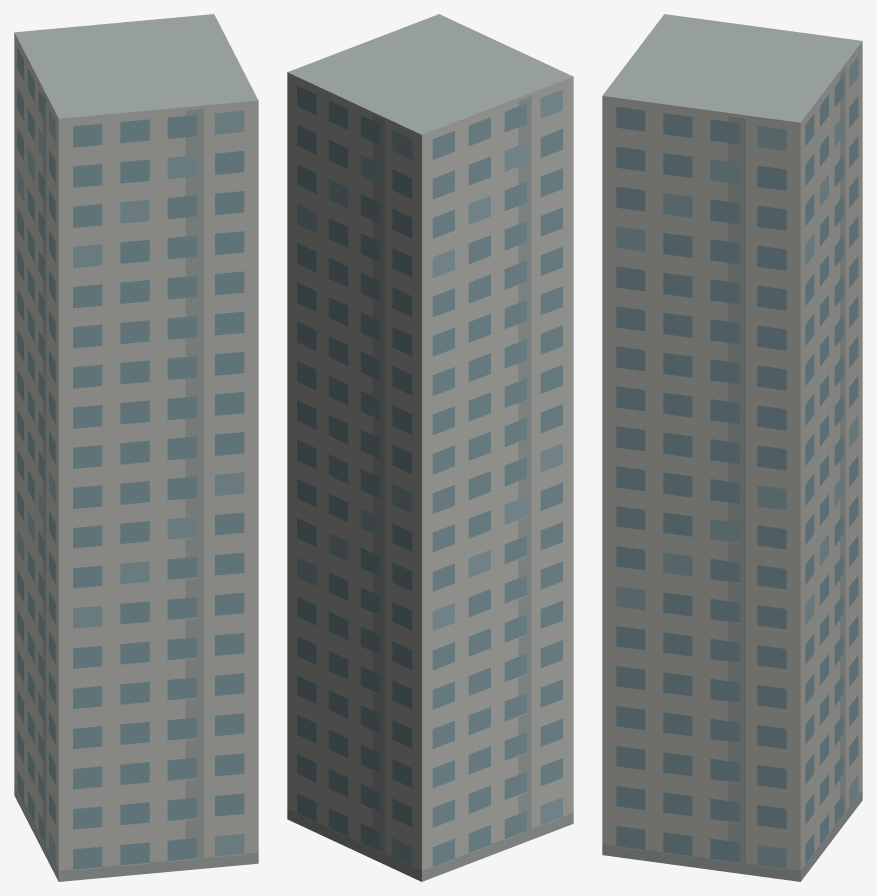
File: residential-84afd66c-5220-420a-afbd-7021ecf3fb96.glb
The picture shows the model from 3 angles, left to right: view 1: azimuth 30°, elevation 25°; view 2: azimuth 150°, elevation 25°; view 3: azimuth 270°, elevation 25°; orthographic projection. The views are drawn at different scales.
Parts seen in each view (by area): view 1: residential-84afd66c-5220-420a-afbd-7021ecf3fb96.tmp; view 2: residential-84afd66c-5220-420a-afbd-7021ecf3fb96.tmp; view 3: residential-84afd66c-5220-420a-afbd-7021ecf3fb96.tmp.
Boxes of the visible parts, x1,y1,x2,y2 form: residential-84afd66c-5220-420a-afbd-7021ecf3fb96.tmp: (14, 14, 258, 881); residential-84afd66c-5220-420a-afbd-7021ecf3fb96.tmp: (287, 14, 573, 881); residential-84afd66c-5220-420a-afbd-7021ecf3fb96.tmp: (602, 14, 862, 881).
Bounding box in the file's own units: 16.9 × 55 × 17.11.
